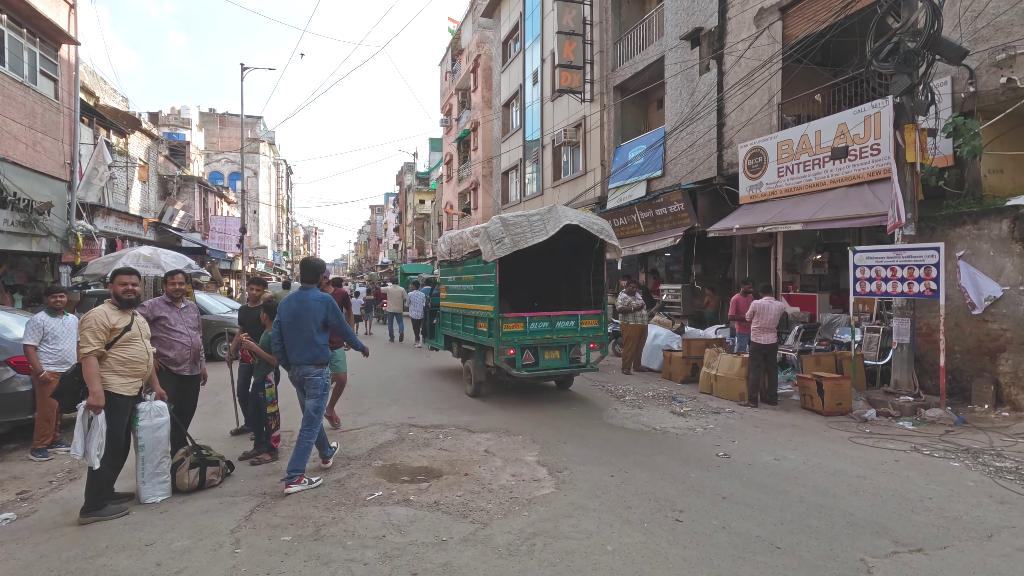dustbin: (860, 401, 881, 421), (893, 419, 919, 433)
